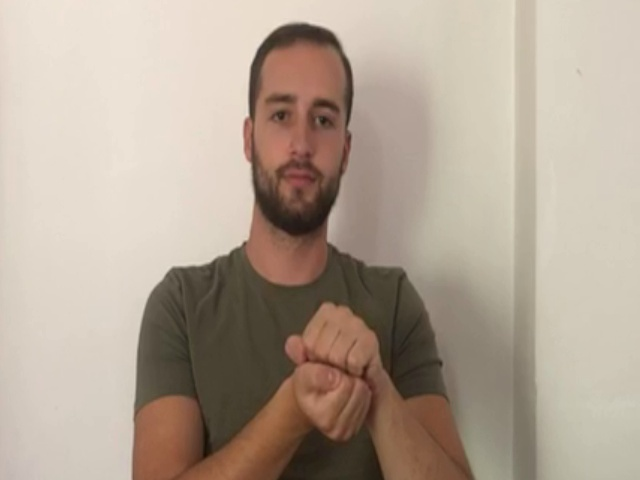Istorija: (274, 299, 393, 445)
